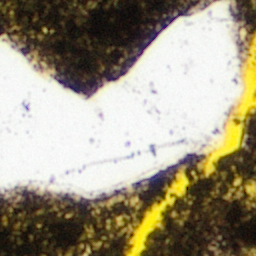cement_matrix: (0, 112, 255, 255), (0, 0, 255, 97)
cracks: (200, 33, 255, 173), (125, 168, 189, 255)
gravel_crushed_stones: (0, 2, 244, 195), (245, 183, 255, 196)
